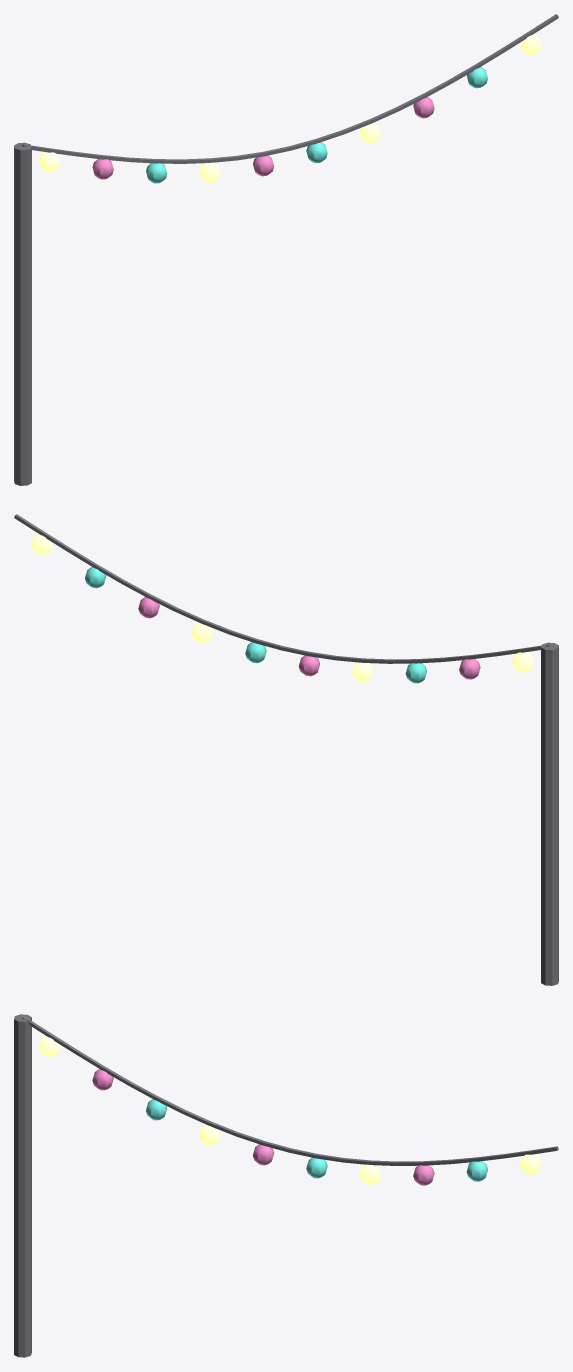
Rendered from StringLightPole.fbx.
3 views of the same model, one above another, from view 1: azimuth 30°, elevation 25°; view 2: azimuth 150°, elevation 25°; view 3: azimuth 330°, elevation 25° (orthographic).
Parts seen in each view (by area): view 1: StringLightPole; view 2: StringLightPole; view 3: StringLightPole.
Part boxes in pixels (bbox=[...]): StringLightPole: bbox=[14, 14, 558, 485]; StringLightPole: bbox=[14, 514, 558, 985]; StringLightPole: bbox=[14, 1014, 558, 1357].
Size of the model in its own units: 10.16 by 6.03 by 0.36.
